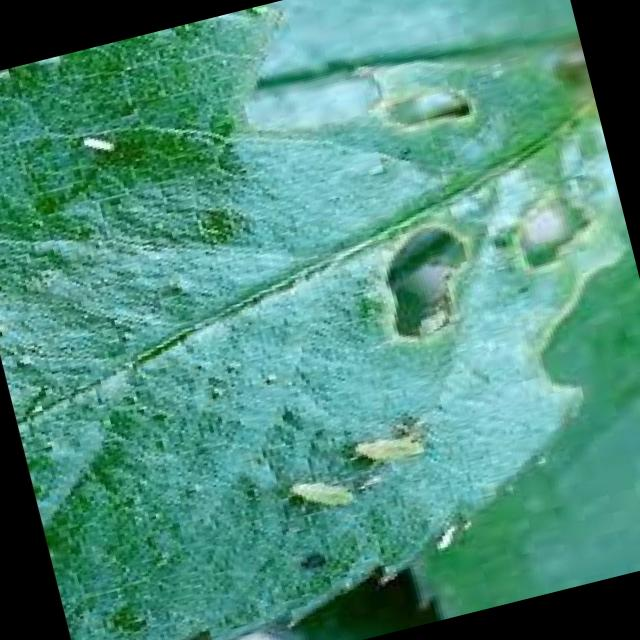aphid: (334, 404, 448, 486), (267, 453, 372, 530)
